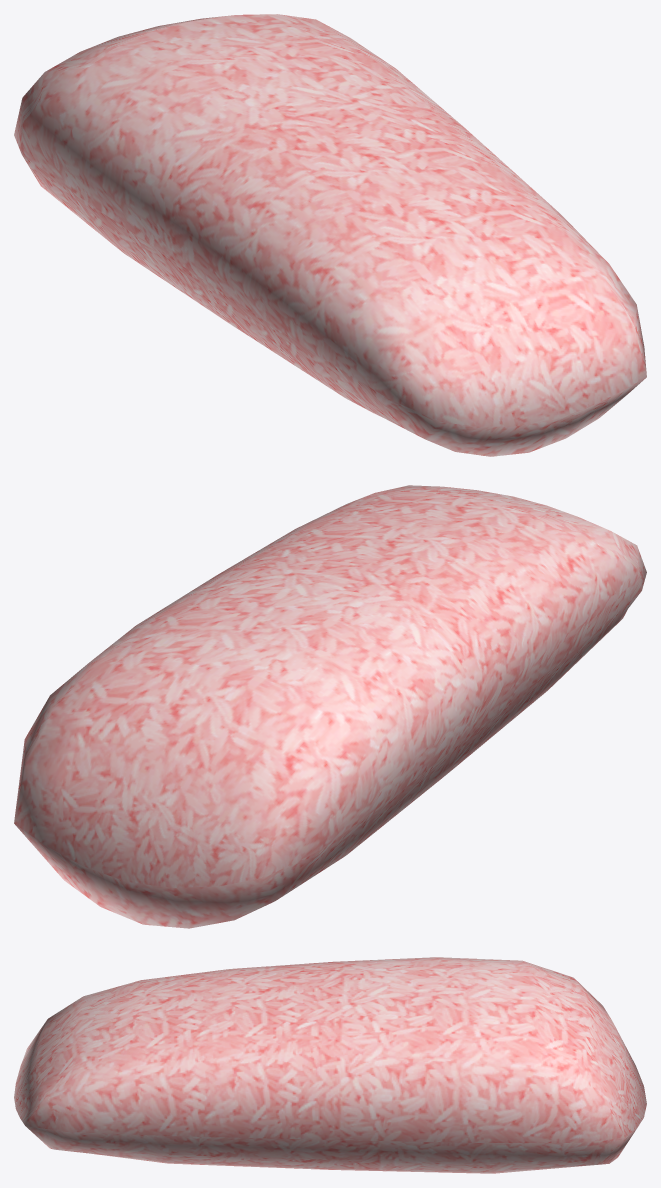
File: Rice_InBurrito.fbx
The picture shows the model from 3 angles, top to bottom: view 1: azimuth 30°, elevation 25°; view 2: azimuth 150°, elevation 25°; view 3: azimuth 270°, elevation 25°; orthographic projection. The views are drawn at different scales.
Visible parts, largest first — view 1: Rice_InBurrito; view 2: Rice_InBurrito; view 3: Rice_InBurrito.
Part boxes in pixels (bbox=[...]): Rice_InBurrito: bbox=[14, 14, 646, 456]; Rice_InBurrito: bbox=[14, 485, 646, 928]; Rice_InBurrito: bbox=[14, 957, 646, 1173].
Size of the model in its own units: 0.3296 by 0.2281 by 0.7578.
1 material, 1 textured.
